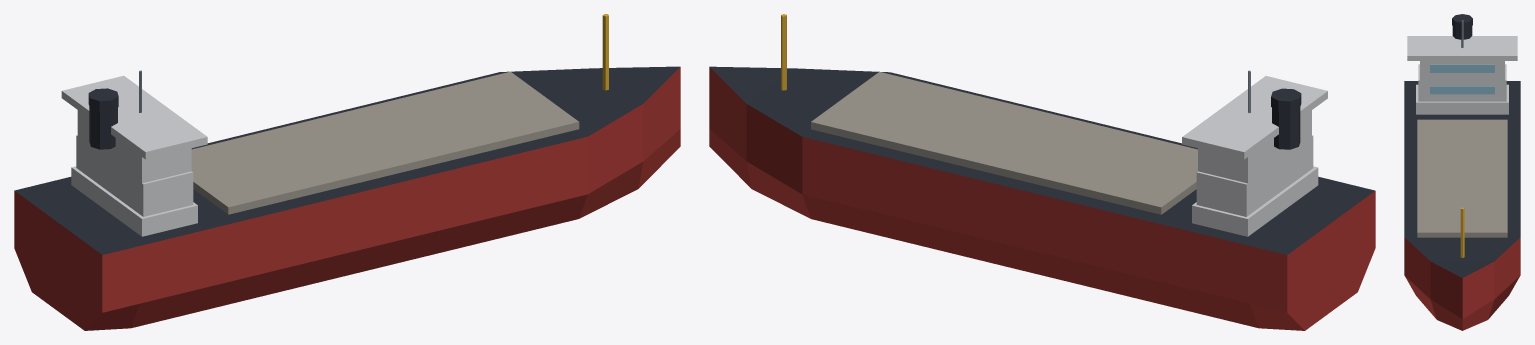
Rendered from ship_coaster.glb.
3 views of the same model, side by side, from view 1: azimuth 30°, elevation 25°; view 2: azimuth 150°, elevation 25°; view 3: azimuth 270°, elevation 25° (orthographic). The views are drawn at different scales.
Visible parts, largest first — view 1: ship_coaster; view 2: ship_coaster; view 3: ship_coaster.
Boxes of the visible parts, box(x1,y1,x2,y2) form: ship_coaster: box(14, 14, 680, 330); ship_coaster: box(709, 14, 1375, 330); ship_coaster: box(1404, 14, 1520, 330).
Size of the model in its own units: 22 by 7.45 by 5.4.
